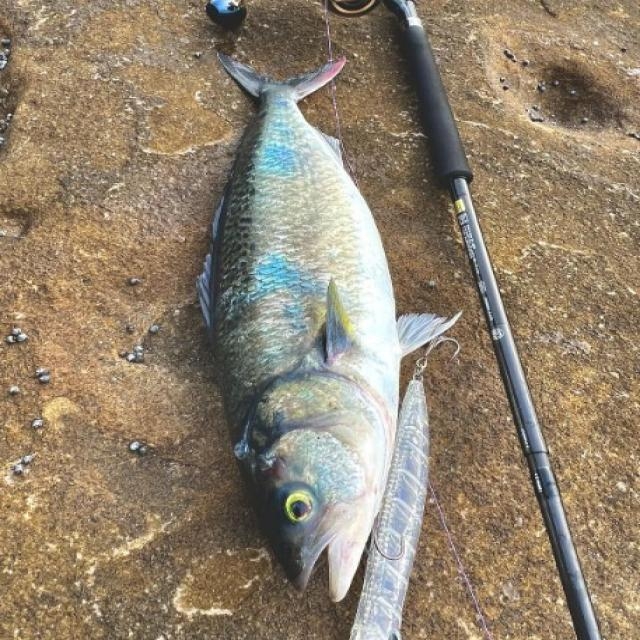Australian Salmon: (170, 30, 470, 610)
